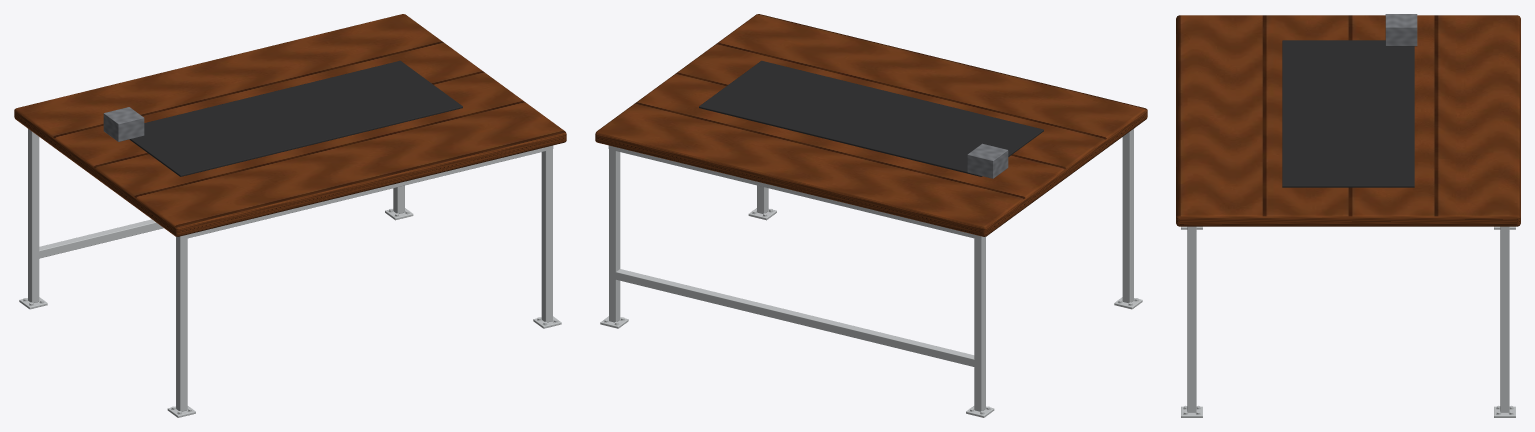
File: fps-weapon-set-and-firing-range-cleaning-bench-c46ea77b__19524.glb
3 renders of one model, left to right at view 1: azimuth 30°, elevation 25°; view 2: azimuth 150°, elevation 25°; view 3: azimuth 270°, elevation 25°, orthographic. The views are drawn at different scales.
Visible parts, largest first — view 1: cleaning-bench; view 2: cleaning-bench; view 3: cleaning-bench.
Part boxes in pixels (<box>): cleaning-bench: <box>14,14,566,417</box>; cleaning-bench: <box>595,14,1147,417</box>; cleaning-bench: <box>1176,14,1520,417</box>.
Bounding box in the file's own units: 1.8 × 0.94 × 1.3.
4 materials, 2 textured.
